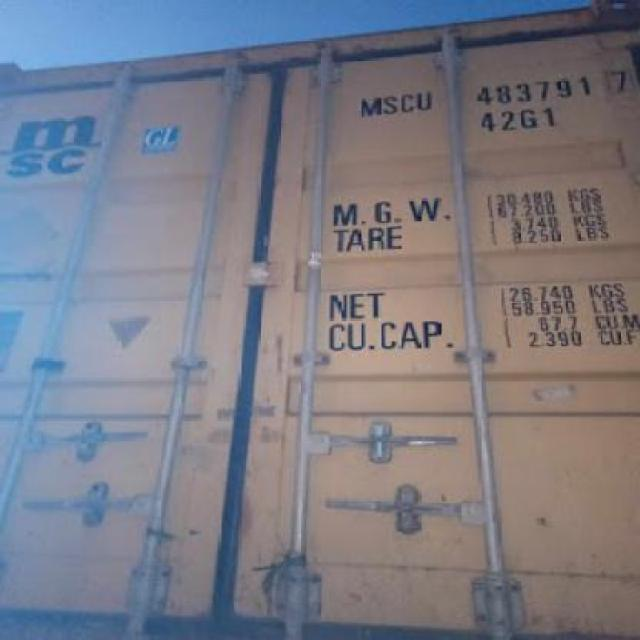ISO: (478, 109, 550, 132)
container_number: (348, 62, 628, 116)
